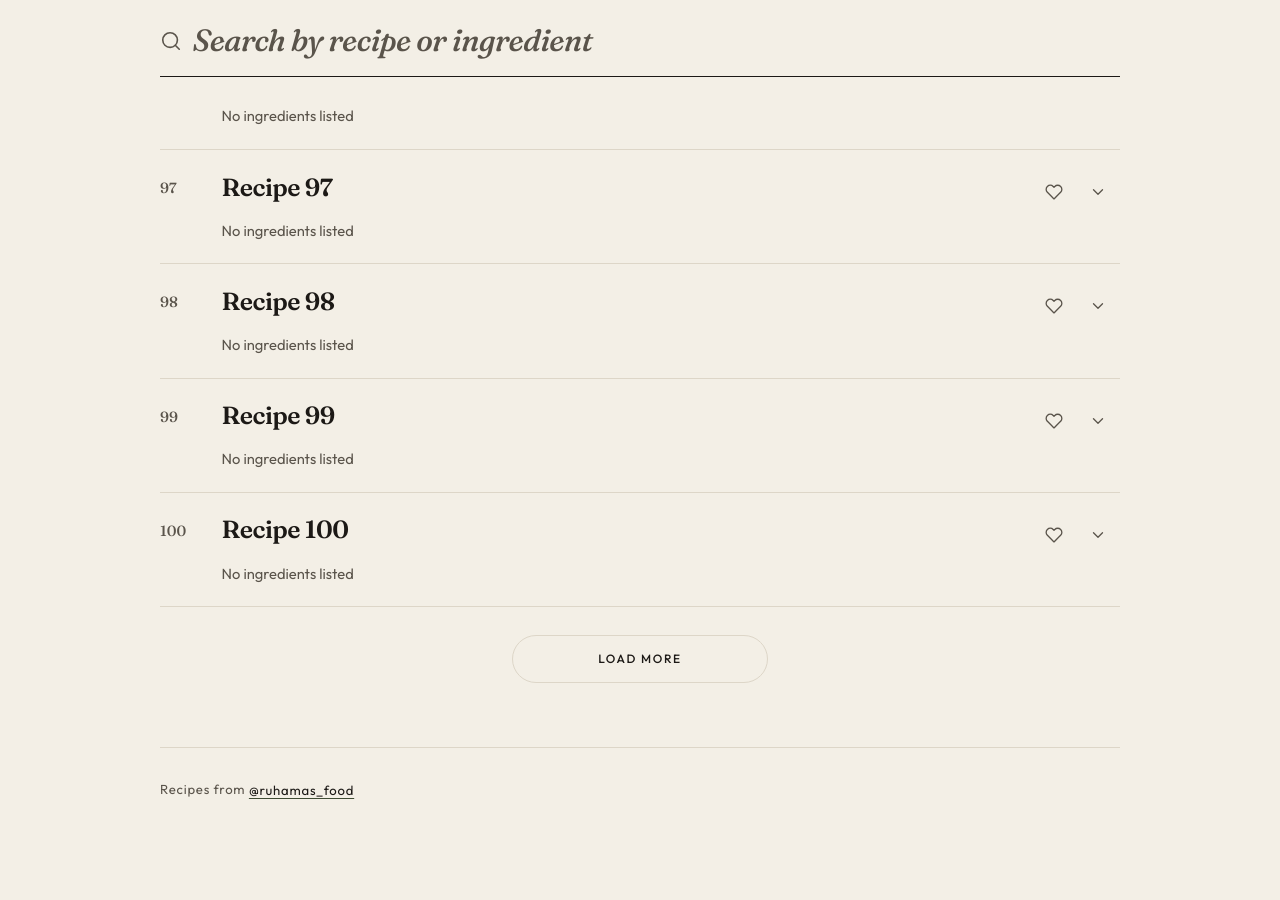
Test: App › shows 100 recipes first and loads more on demand
The width and height of the screenshot is (1280, 900).
(page scrolled)
Click the button "Load more" at (640, 659), box [512,635,768,683]
(page scrolled)
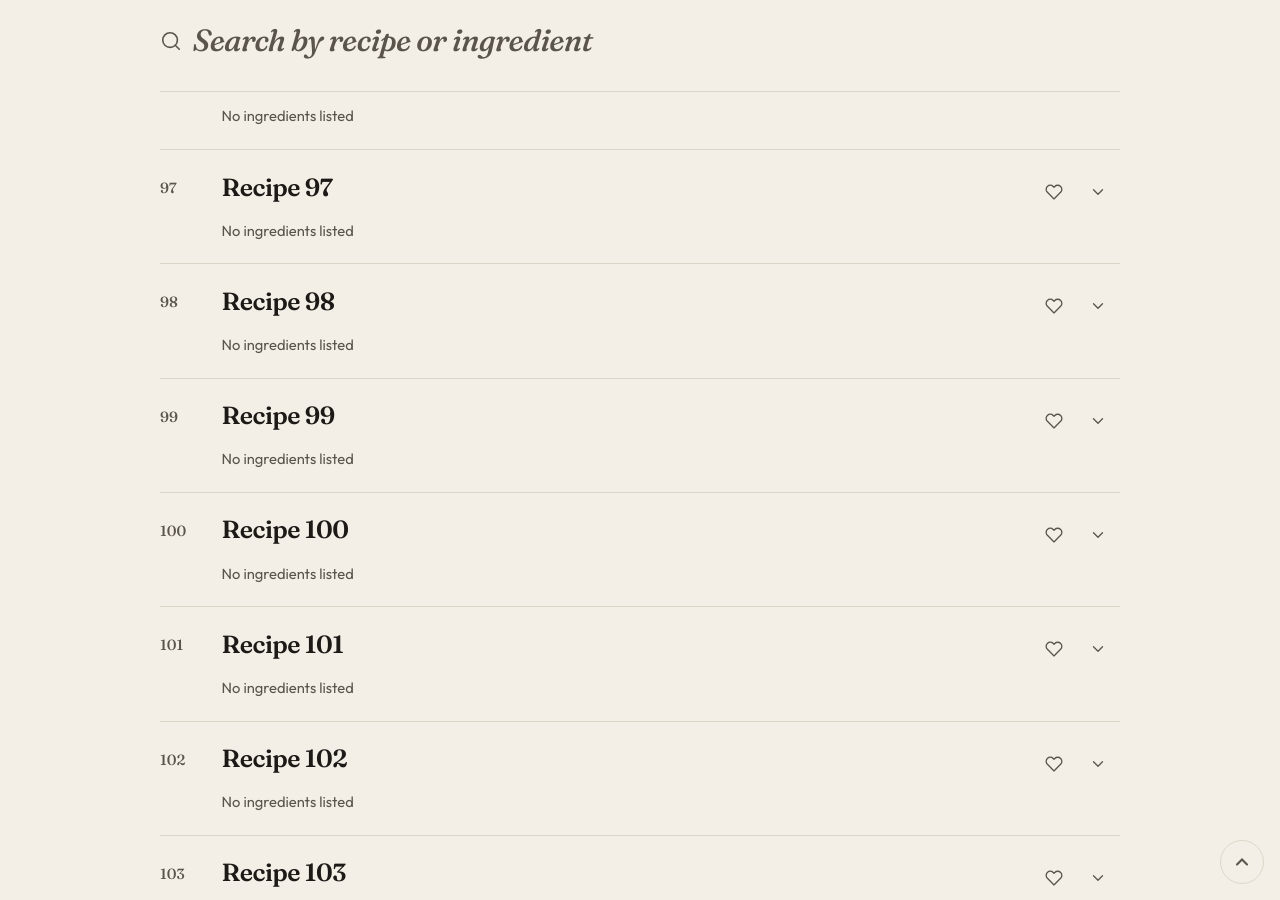
Expected: the button "Load more" is gone
